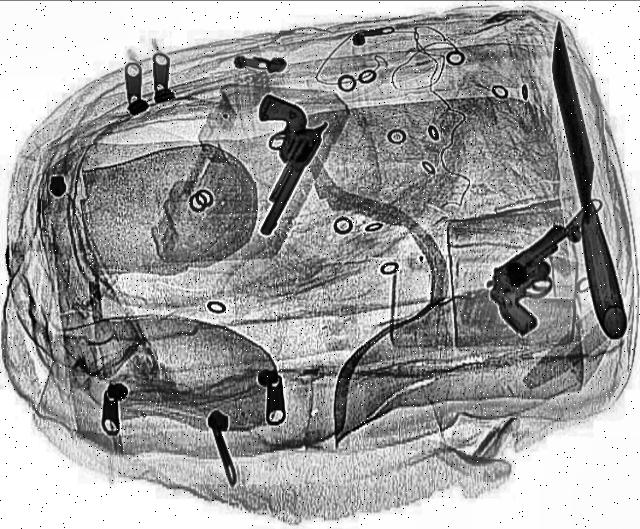Gun: (199, 92, 341, 237), (464, 225, 618, 337)
Knife: (535, 22, 633, 344)
